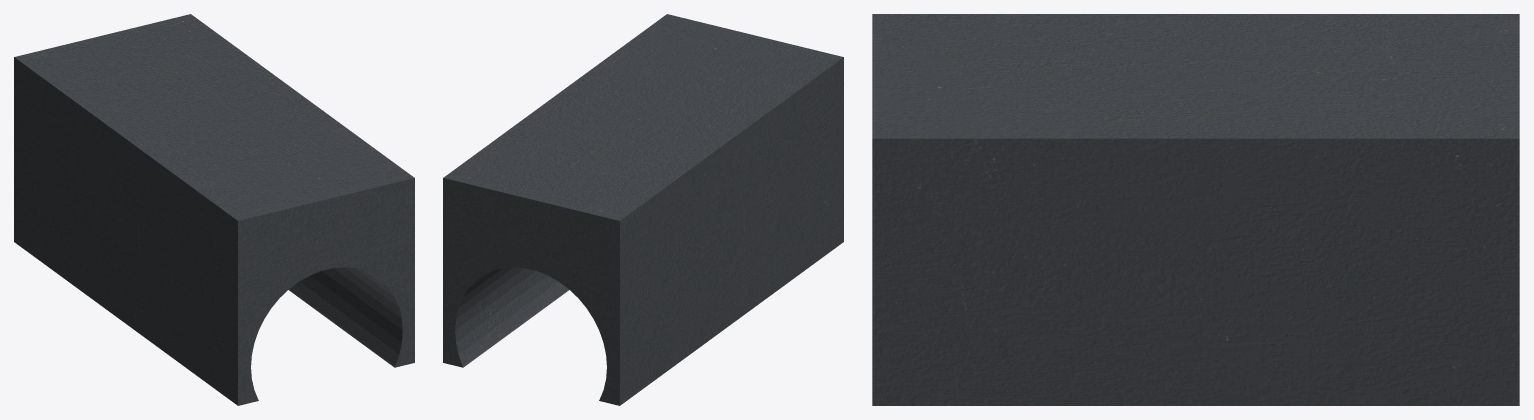
The model's file is Tunnel.fbx.
The picture shows the model from 3 angles, left to right: view 1: azimuth 30°, elevation 25°; view 2: azimuth 150°, elevation 25°; view 3: azimuth 270°, elevation 25°; orthographic projection. The views are drawn at different scales.
Visible parts, largest first — view 1: TunnelAgain; view 2: TunnelAgain; view 3: TunnelAgain.
Part boxes in pixels (left/top/right/bottom): TunnelAgain: left=14, top=14, right=414, bottom=405; TunnelAgain: left=443, top=14, right=843, bottom=405; TunnelAgain: left=872, top=14, right=1519, bottom=405.
Size of the model in its own units: 460 by 460 by 1010.
